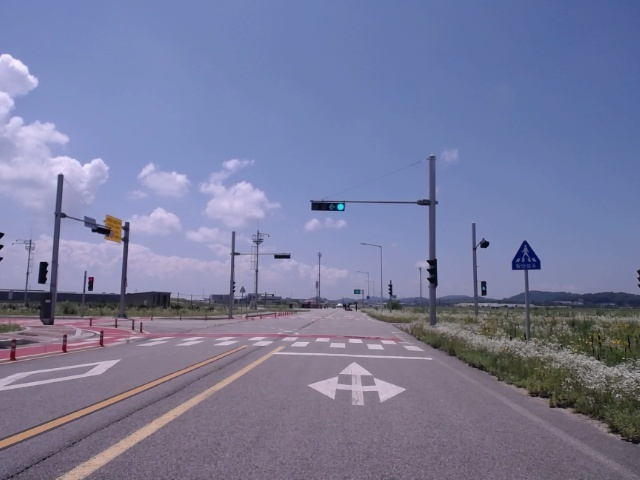all_green_4: (308, 198, 345, 212)
